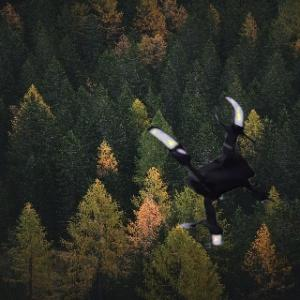drone: (132, 93, 300, 262)
